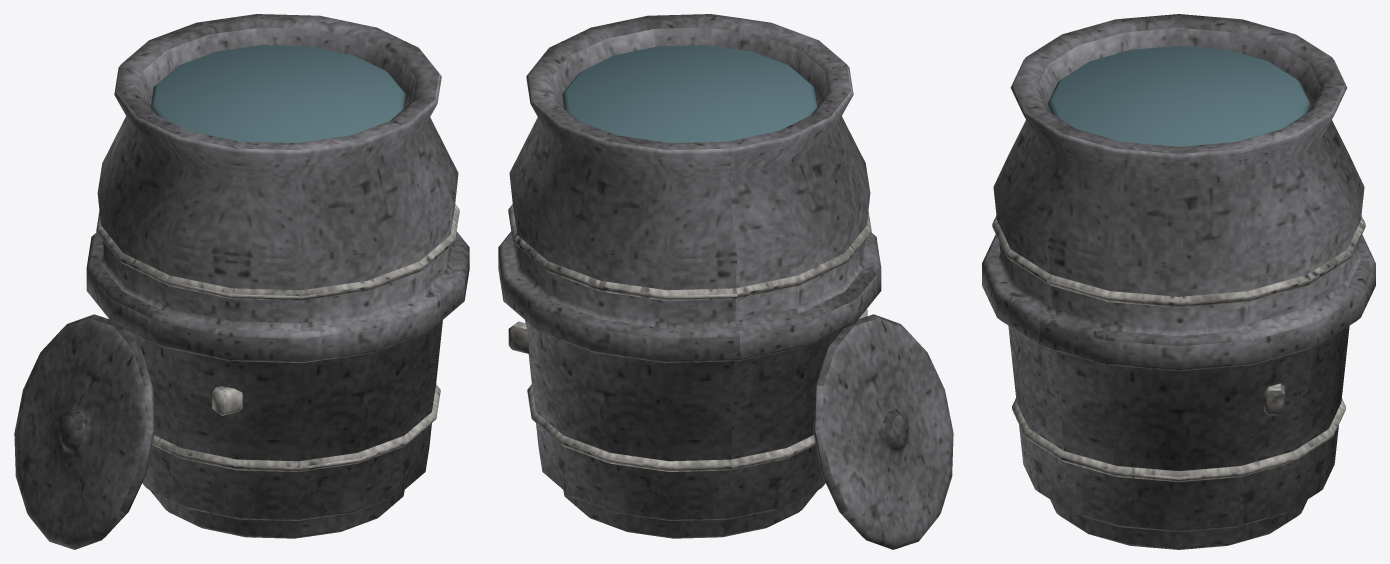
The model's file is water_jar_open.fbx.
The picture shows the model from 3 angles, left to right: view 1: azimuth 30°, elevation 25°; view 2: azimuth 150°, elevation 25°; view 3: azimuth 270°, elevation 25°; orthographic projection.
Parts seen in each view (by area): view 1: water_jar_open; view 2: water_jar_open; view 3: water_jar_open.
Boxes of the visible parts, left/top/right/bottom form: water_jar_open: left=14, top=14, right=469, bottom=549; water_jar_open: left=498, top=14, right=953, bottom=549; water_jar_open: left=982, top=14, right=1375, bottom=549.
Size of the model in its own units: 62.03 by 60 by 52.
